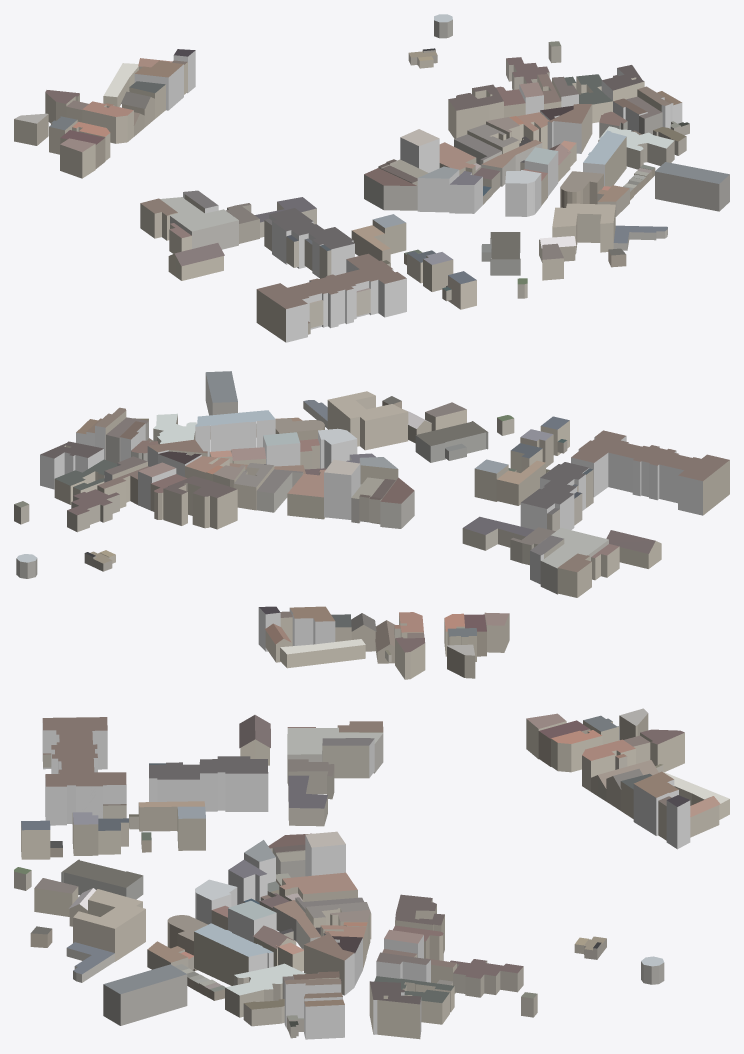
3 renders of one model, top to bottom at view 1: azimuth 30°, elevation 25°; view 2: azimuth 150°, elevation 25°; view 3: azimuth 270°, elevation 25°, orthographic. The views are drawn at different scales.
Parts seen in each view (by area): view 1: tuile; view 2: tuile; view 3: tuile.
Part boxes in pixels (left/top/right/bottom): tuile: left=14, top=14, right=729, bottom=342; tuile: left=14, top=371, right=729, bottom=679; tuile: left=14, top=708, right=729, bottom=1039.
Size of the model in its own units: 260 by 25.73 by 263.
